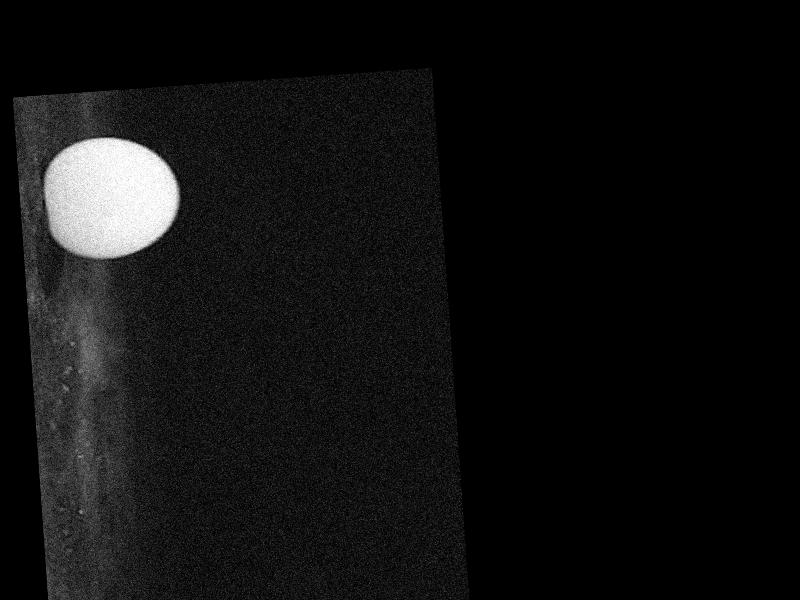Eggs: (43, 133, 183, 263)
